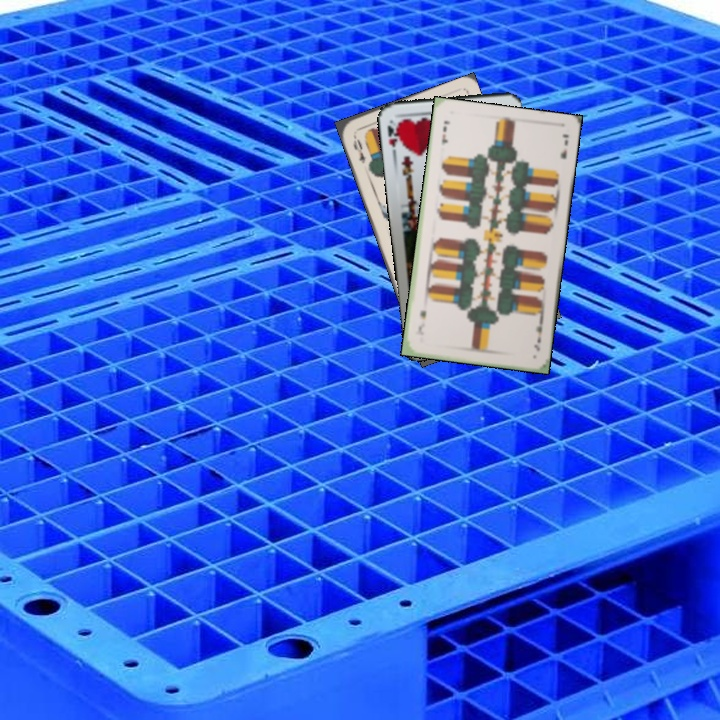E7: (530, 316, 546, 354), (438, 116, 453, 147)
EO: (349, 131, 368, 166)
HK: (383, 117, 403, 158)
